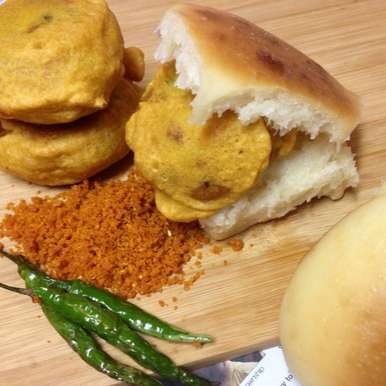vada pav: (175, 23, 299, 212)
